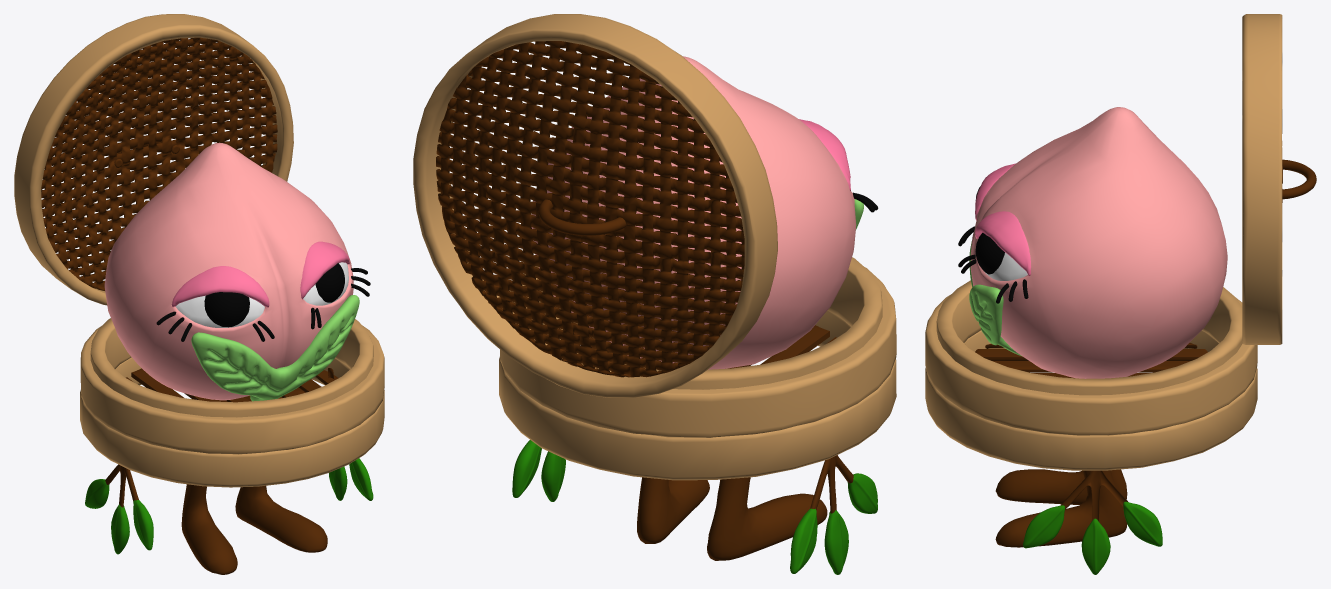
The picture shows the model from 3 angles, left to right: view 1: azimuth 30°, elevation 25°; view 2: azimuth 150°, elevation 25°; view 3: azimuth 270°, elevation 25°; orthographic projection. The views are drawn at different scales.
Visible parts, largest first — view 1: head, lidweave, lidtube, bottomtube1, bottomtube2, bottominnertube, bunleaf, eyelids, leg1, leg2, irises, sclera (+7 smaller); view 2: lidweave, lidtube, head, bottomtube2, bottomtube1, bottominnertube, leg2, leg1, handle, leaf_2, leaf_3, leaf_4 (+5 smaller); view 3: head, bottomtube1, lidtube, bottomtube2, bottominnertube, leg1, leg2, eyelids, planks, bunleaf, leaf_4, leaf_5 (+6 smaller).
Part boxes in pixels (x1=…): head: x1=104, y1=142, x2=353, y2=400; lidweave: x1=41, y1=37, x2=277, y2=290; lidtube: x1=14, y1=14, x2=293, y2=305; bottomtube1: x1=80, y1=325, x2=384, y2=454; bottomtube2: x1=80, y1=357, x2=384, y2=487; bottominnertube: x1=90, y1=318, x2=373, y2=417; bunleaf: x1=191, y1=295, x2=359, y2=401; eyelids: x1=171, y1=241, x2=349, y2=307; leg1: x1=235, y1=387, x2=327, y2=552; leg2: x1=181, y1=396, x2=251, y2=574; irises: x1=204, y1=263, x2=344, y2=327; sclera: x1=175, y1=262, x2=348, y2=327; lidweave: x1=436, y1=41, x2=744, y2=377; lidtube: x1=413, y1=14, x2=777, y2=397; head: x1=531, y1=56, x2=856, y2=369; bottomtube2: x1=499, y1=310, x2=896, y2=480; bottomtube1: x1=500, y1=267, x2=896, y2=437; bottominnertube: x1=513, y1=257, x2=882, y2=389; leg2: x1=707, y1=477, x2=827, y2=560; leg1: x1=637, y1=477, x2=709, y2=543; handle: x1=538, y1=199, x2=626, y2=235; leaf_2: x1=790, y1=508, x2=817, y2=573; leaf_3: x1=824, y1=510, x2=848, y2=574; leaf_4: x1=512, y1=440, x2=541, y2=497; head: x1=970, y1=107, x2=1227, y2=378; bottomtube1: x1=925, y1=294, x2=1257, y2=435; lidtube: x1=1242, y1=14, x2=1282, y2=344; bottomtube2: x1=925, y1=330, x2=1257, y2=470; bottominnertube: x1=936, y1=280, x2=1242, y2=395; leg1: x1=995, y1=470, x2=1127, y2=547; leg2: x1=995, y1=469, x2=1127, y2=504; eyelids: x1=975, y1=163, x2=1030, y2=276; planks: x1=975, y1=342, x2=1207, y2=378; bunleaf: x1=969, y1=241, x2=1022, y2=356; leaf_4: x1=1123, y1=501, x2=1162, y2=546; leaf_5: x1=1023, y1=505, x2=1065, y2=548.
Size of the model in its own units: 393 by 643 by 465.
